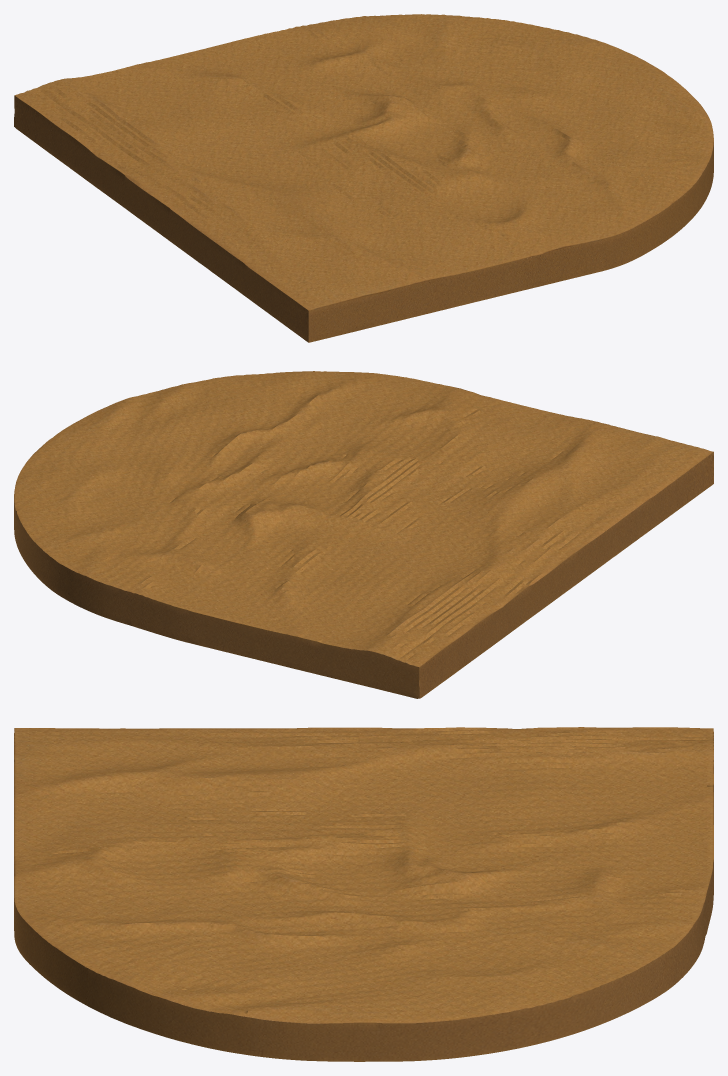
File: DesertFloorSandQuads.glb
The picture shows the model from 3 angles, top to bottom: view 1: azimuth 30°, elevation 25°; view 2: azimuth 150°, elevation 25°; view 3: azimuth 270°, elevation 25°; orthographic projection. The views are drawn at different scales.
Visible parts, largest first — view 1: output; view 2: output; view 3: output.
Boxes of the visible parts, x1,y1,x2,y2 form: output: (14, 14, 713, 342); output: (14, 371, 713, 698); output: (14, 727, 713, 1061).
Bounding box in the file's own units: 1.9 × 0.1483 × 1.9.
Materials: 1 (1 with a texture image).
